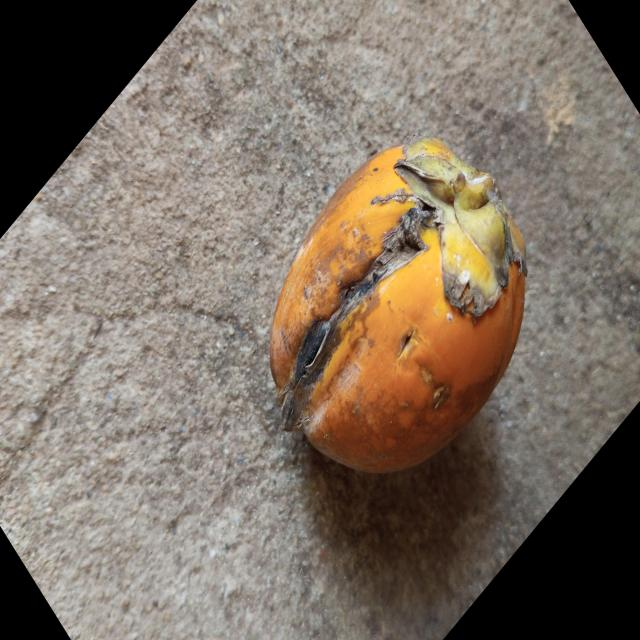damaged: (268, 138, 528, 477)
